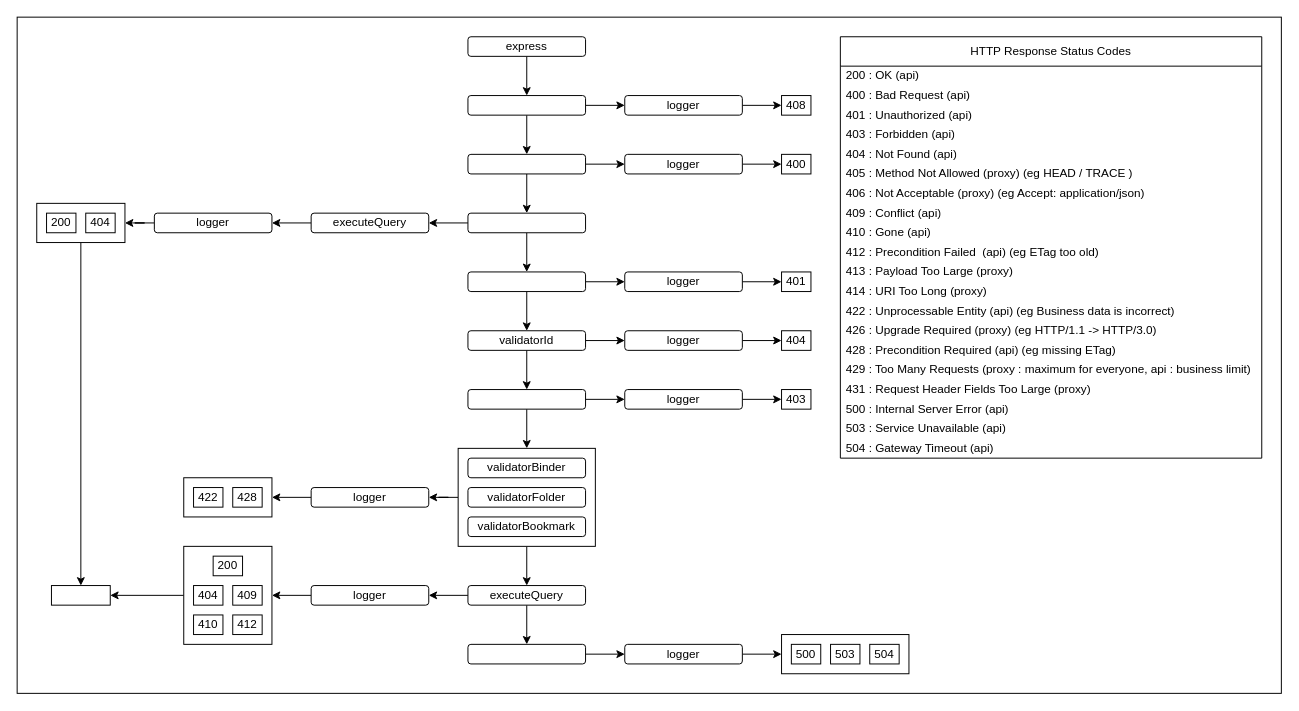
Image size: 1299x711. Some labels were removed from this diagram. The shapes that lost their labels are listed below. From the top down, each one's centre as x and y in pixels, then its label:
At [526,105]: "uuid.v1 + timeout".
At [526,163]: "validatorRequest".
At [526,222]: "express.json()".
At [526,281]: "authentification".
At [526,399]: "authorization".
At [80,595]: "cache".
At [526,653]: "errorHandler".
